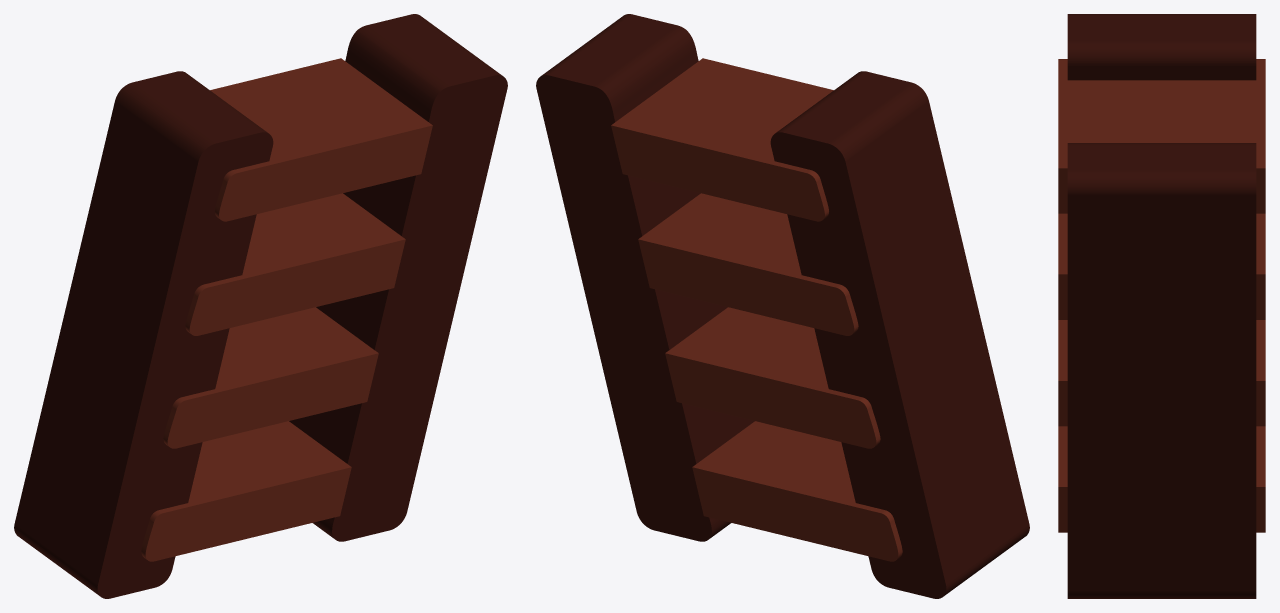
3 renders of one model, left to right at view 1: azimuth 30°, elevation 25°; view 2: azimuth 150°, elevation 25°; view 3: azimuth 270°, elevation 25°, orthographic. The views are drawn at different scales.
Parts seen in each view (by area): view 1: U+1FA9C_layer00_obj00, U+1FA9C_layer01_obj00; view 2: U+1FA9C_layer00_obj00, U+1FA9C_layer01_obj00; view 3: U+1FA9C_layer00_obj00, U+1FA9C_layer01_obj00.
Part boxes in pixels (left/top/right/bottom): U+1FA9C_layer00_obj00: left=14, top=14, right=507, bottom=598; U+1FA9C_layer01_obj00: left=141, top=58, right=432, bottom=561; U+1FA9C_layer00_obj00: left=536, top=14, right=1029, bottom=598; U+1FA9C_layer01_obj00: left=611, top=58, right=902, bottom=561; U+1FA9C_layer00_obj00: left=1067, top=14, right=1256, bottom=598; U+1FA9C_layer01_obj00: left=1058, top=59, right=1265, bottom=532.
Size of the model in its own units: 0.5678 by 0.5677 by 0.22.
